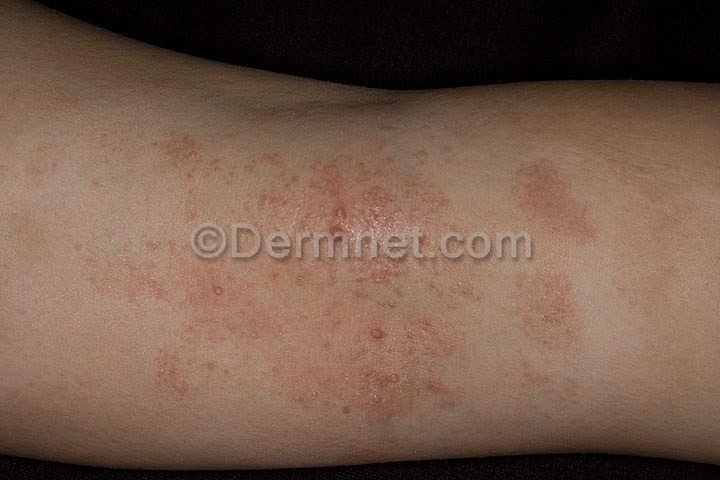Eczema: (104, 99, 625, 459)
